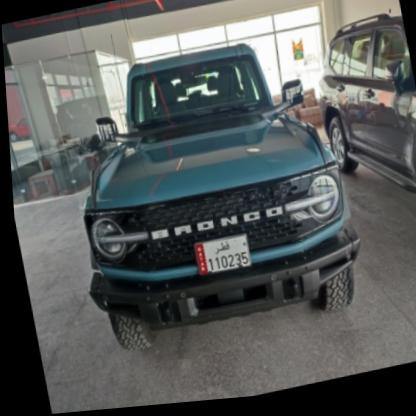np: (187, 236, 250, 282)
